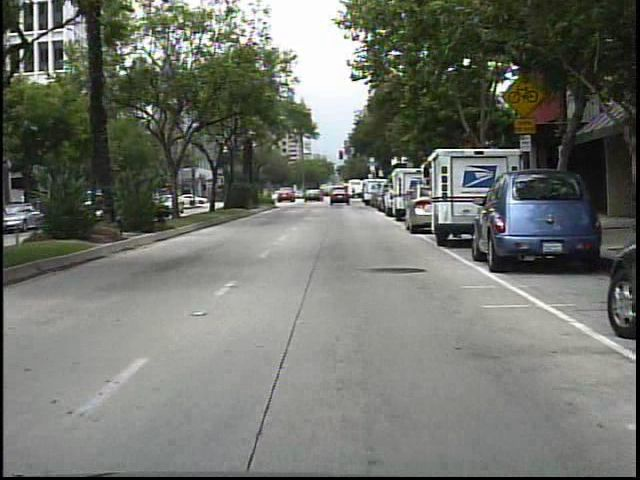person: (350, 183, 358, 204)
